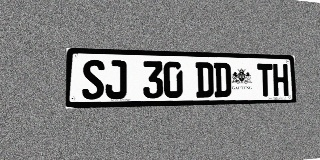0: (163, 61, 183, 98)
3: (143, 61, 163, 99)
D: (196, 62, 214, 98), (214, 62, 231, 97)
H: (273, 64, 288, 96)
J: (105, 60, 127, 99)
S: (82, 60, 104, 100)
T: (257, 63, 273, 97)
